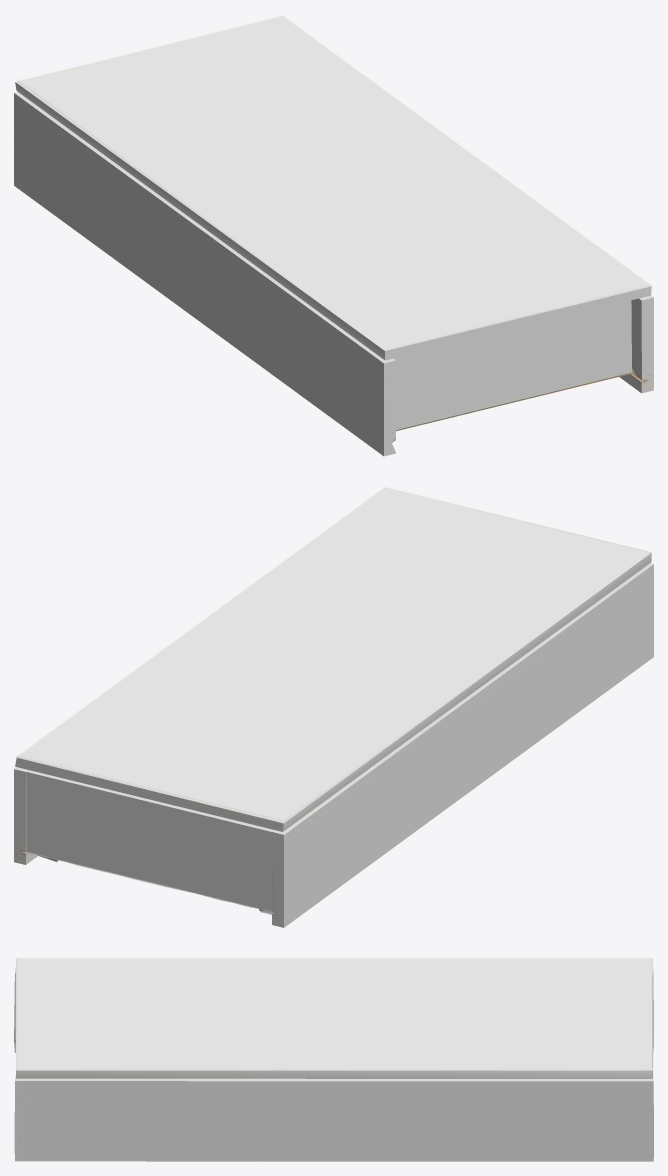
The model's file is 24 - LETTAN Mirror cabinet with door - mirror effectmirror glass 40x15x95 cm.glb.
The picture shows the model from 3 angles, top to bottom: view 1: azimuth 30°, elevation 25°; view 2: azimuth 150°, elevation 25°; view 3: azimuth 270°, elevation 25°; orthographic projection. The views are drawn at different scales.
Visible parts, largest first — view 1: 40534920-LETTAN001; view 2: 40534920-LETTAN001; view 3: 40534920-LETTAN001.
Boxes of the visible parts, <box> form: 40534920-LETTAN001: <box>14,16,653,456</box>; 40534920-LETTAN001: <box>14,487,653,927</box>; 40534920-LETTAN001: <box>14,958,653,1161</box>.
Bounding box in the file's own units: 0.4001 × 0.1521 × 0.9511.
2 materials, 2 textured.
